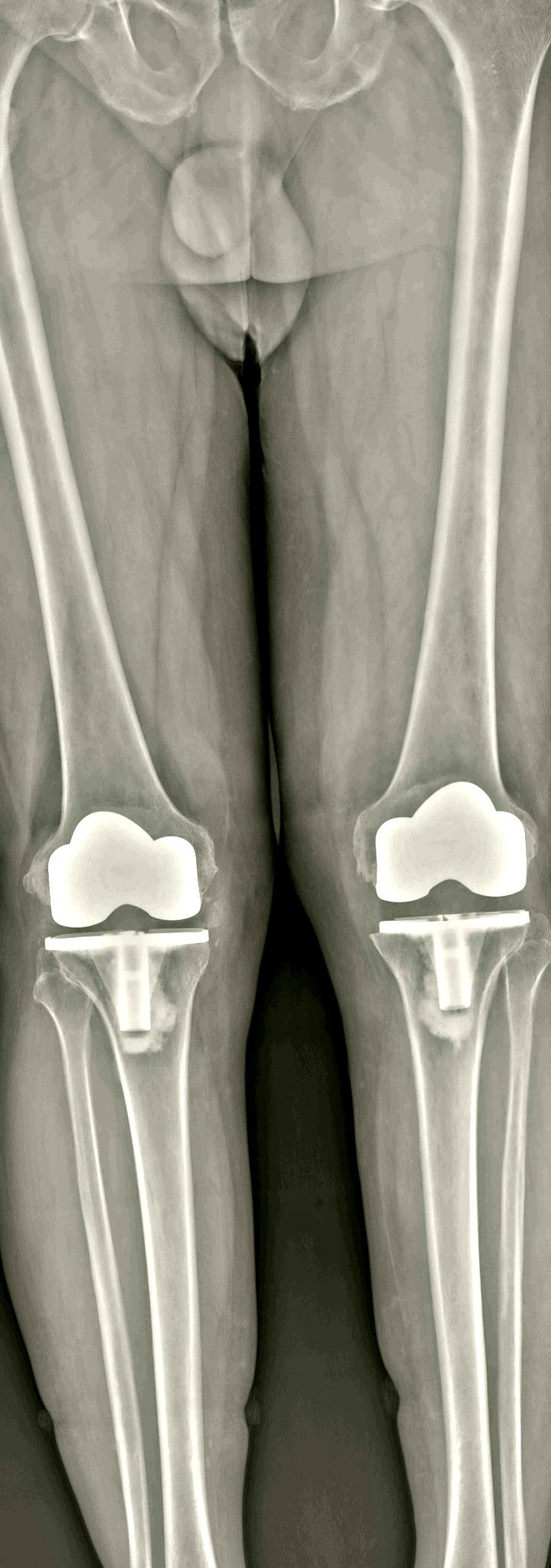Leg Fibula: (35, 956, 151, 1568), (499, 917, 551, 1568)
Leg Tibia: (371, 911, 529, 1568), (54, 931, 215, 1568)
femur: (0, 0, 213, 928), (353, 0, 551, 904)
